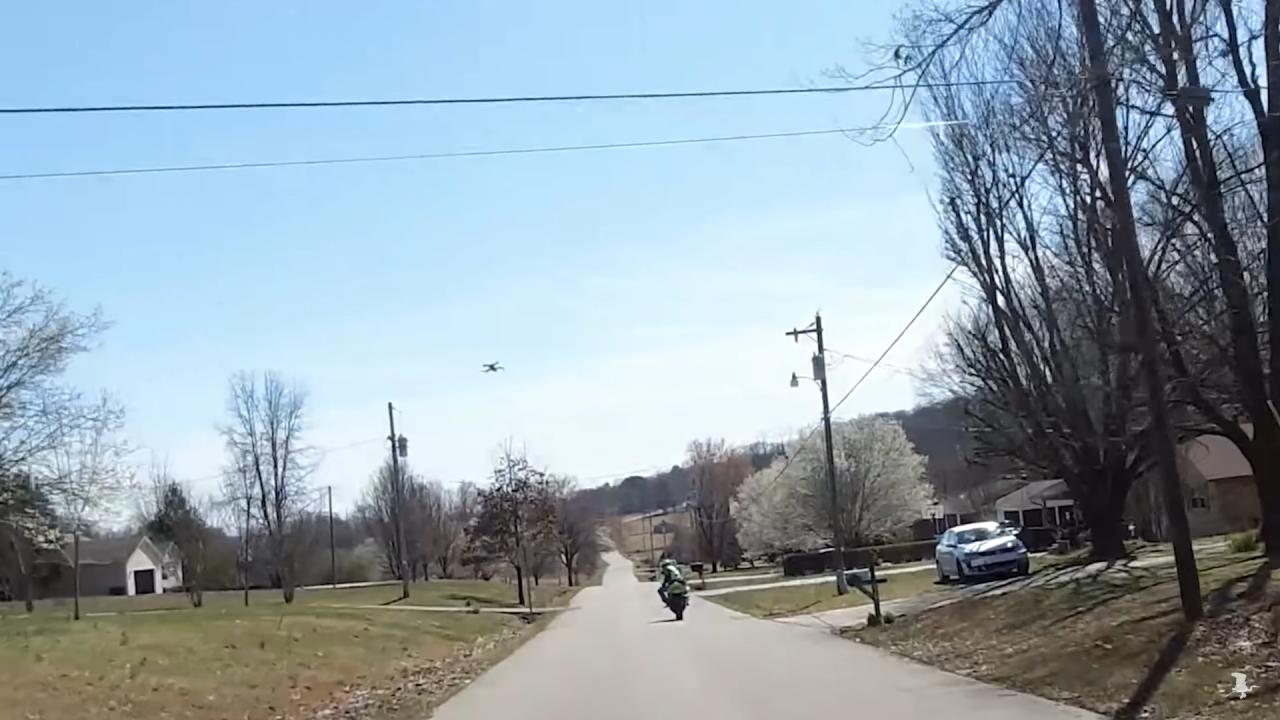Drone: (474, 354, 509, 381)
